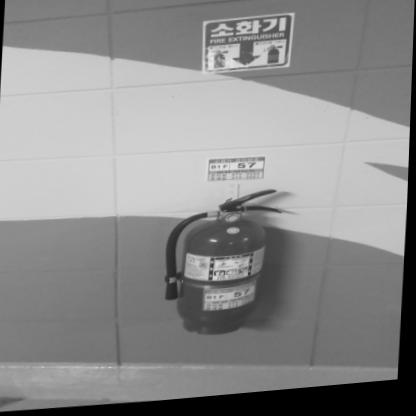FE: (162, 190, 282, 343)
